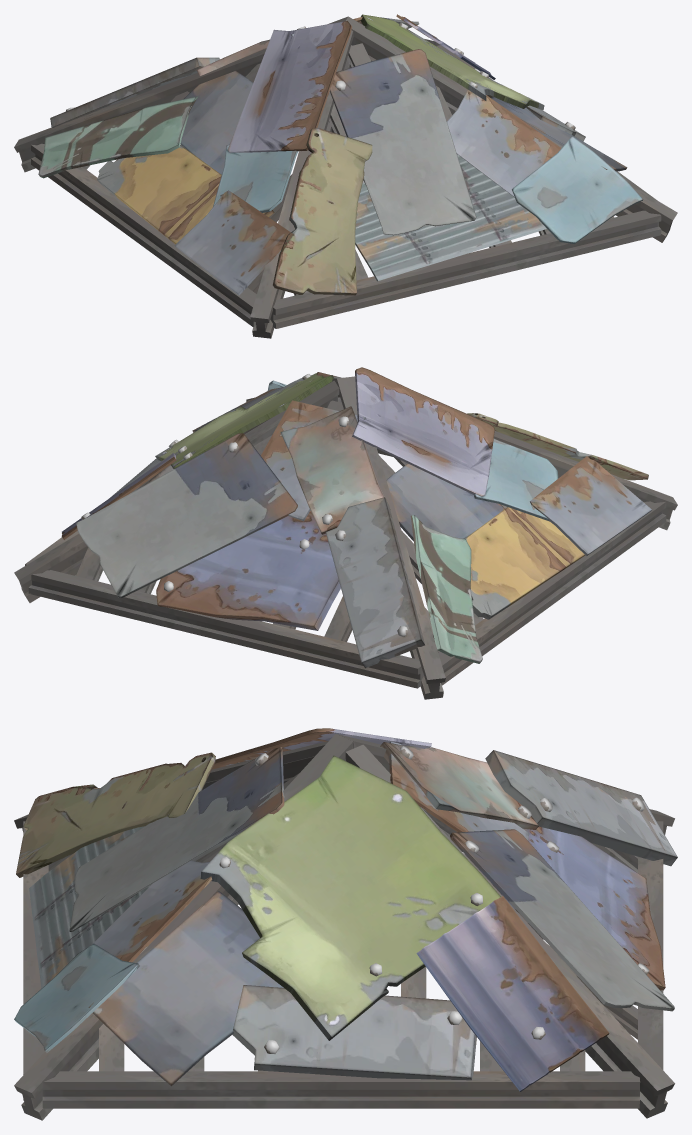
Rendered from metal-roof.glb.
3 views of the same model, one above another, from view 1: azimuth 30°, elevation 25°; view 2: azimuth 150°, elevation 25°; view 3: azimuth 270°, elevation 25° (orthographic). The views are drawn at different scales.
Visible parts, largest first — view 1: PBW_M1_RoofC.dmx-static; view 2: PBW_M1_RoofC.dmx-static; view 3: PBW_M1_RoofC.dmx-static.
Boxes of the visible parts, <box> form: PBW_M1_RoofC.dmx-static: <box>14,14,677,338</box>; PBW_M1_RoofC.dmx-static: <box>14,367,677,699</box>; PBW_M1_RoofC.dmx-static: <box>14,728,677,1120</box>.
Size of the model in its own units: 5.75 by 2.37 by 5.63.
Materials: 1 (1 with a texture image).
